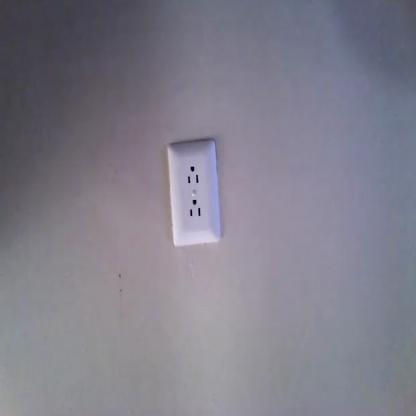OUTLET: (170, 140, 219, 246)
